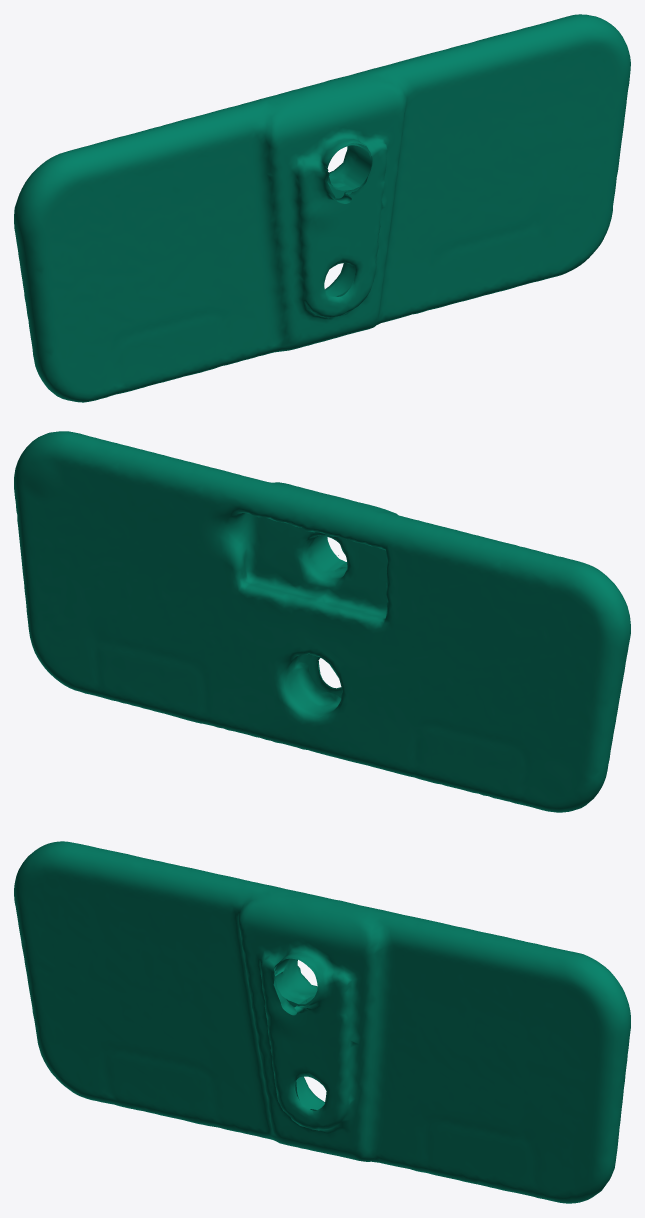
The model's file is BottomWing.obj.
The picture shows the model from 3 angles, top to bottom: view 1: azimuth 30°, elevation 25°; view 2: azimuth 150°, elevation 25°; view 3: azimuth 330°, elevation 25°; orthographic projection.
Parts seen in each view (by area): view 1: BottomWing; view 2: BottomWing; view 3: BottomWing.
Part boxes in pixels (<box>): BottomWing: <box>14,14,630,402</box>; BottomWing: <box>14,431,630,812</box>; BottomWing: <box>14,841,630,1203</box>.
Size of the model in its own units: 0.2543 by 0.104 by 0.0291.
Materials: 1 (1 with a texture image).
